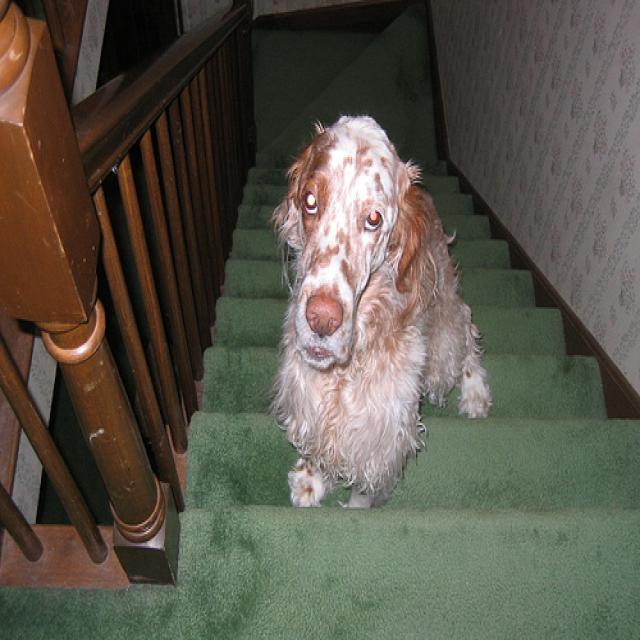dog-english_setter: (276, 113, 490, 514)
